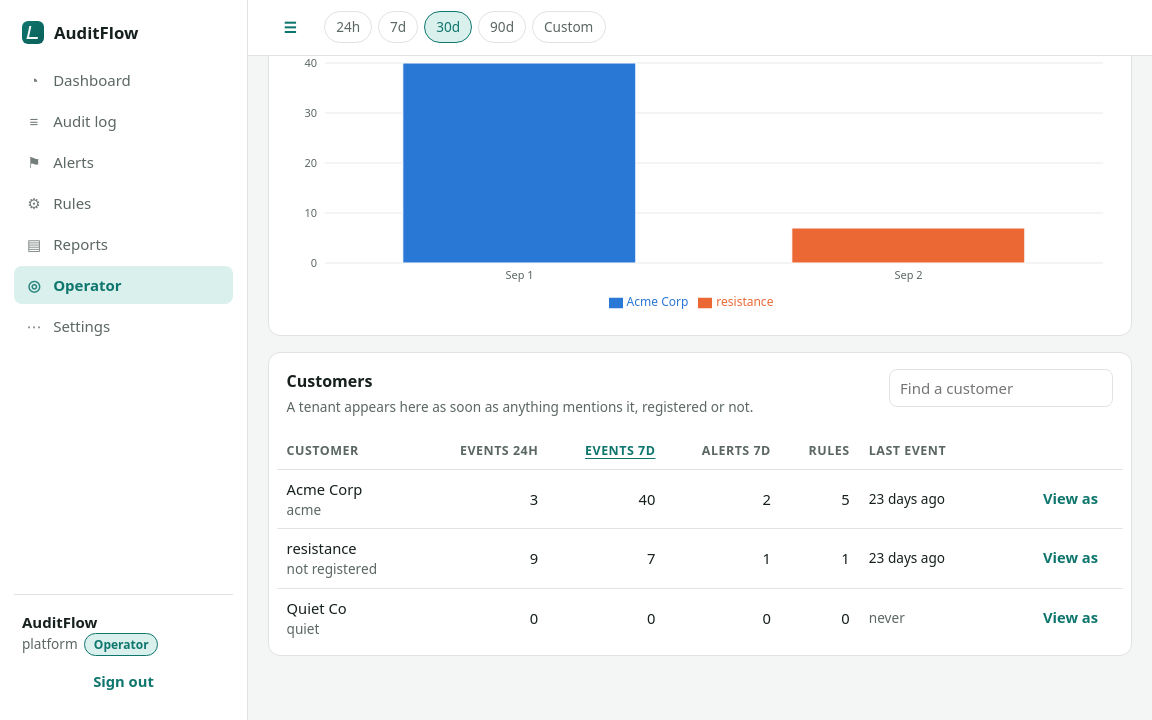
operator › "view as" switches the console to that customer and lands on their dashboard
(page scrolled)
Expected: the table named "Customers" is shown, 277,434 -> 1123,647
Click the 1st button "View as" at (1070, 499), box 1028,481 -> 1113,517
(page scrolled)
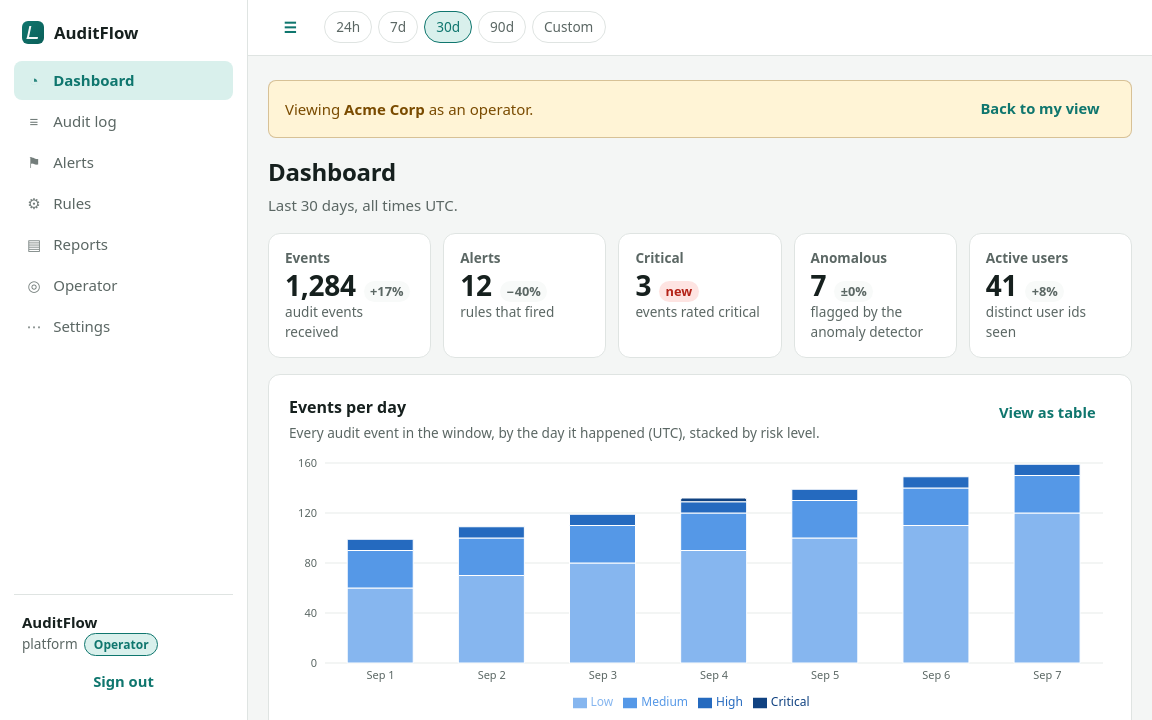
Expected: the heading "Dashboard" is shown, 268,155 -> 396,188
Expected: the text "Viewing Acme Corp as an operator." is shown, 285,98 -> 533,120
Expected: the text "Last 30 days" is shown, 268,195 -> 354,215
